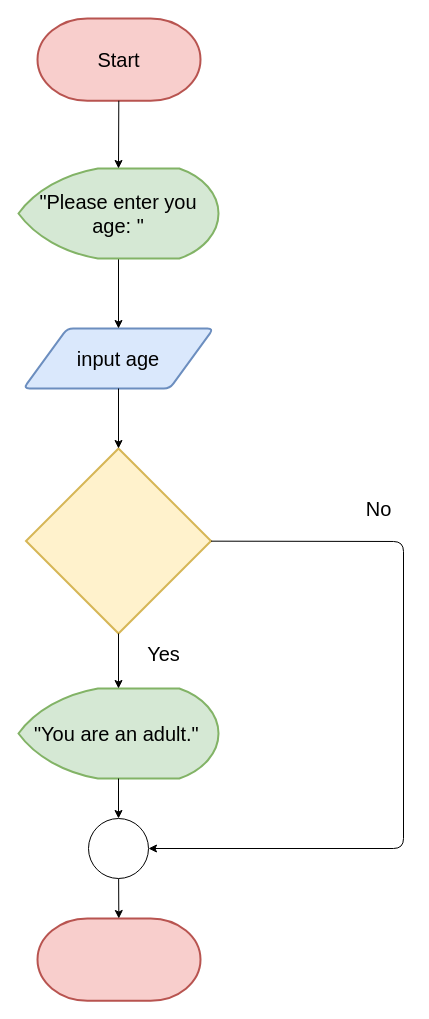
Some shapes in this 429 by 1019 pixel diagram are drawn without their labels. Each missing label, with the box of its shape:
age >= 18?: (24, 447, 212, 634)
Stop: (36, 917, 201, 1001)
